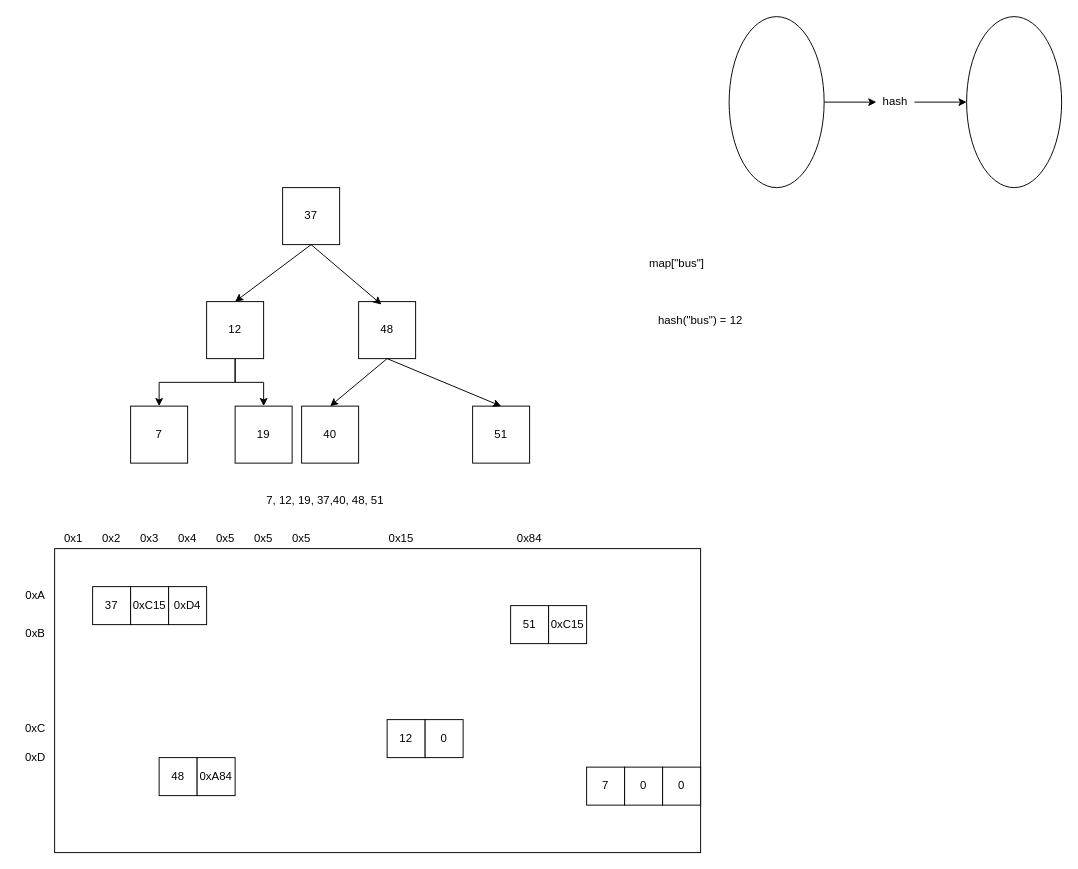
Image size: 1078x869. Some labels were removed from this diagram. Here are the shapes that lost their labels. From the top down, the box of each, then its label:
(728, 16, 824, 188): Strings
(966, 16, 1062, 188): Integers
